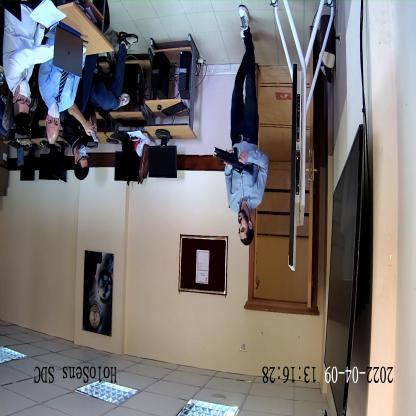handgun: (216, 142, 254, 178)
